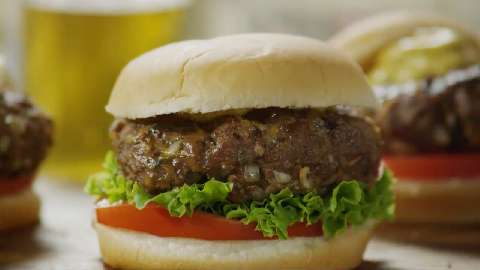hamburger: (85, 30, 382, 270), (337, 13, 471, 254), (1, 39, 50, 257)
